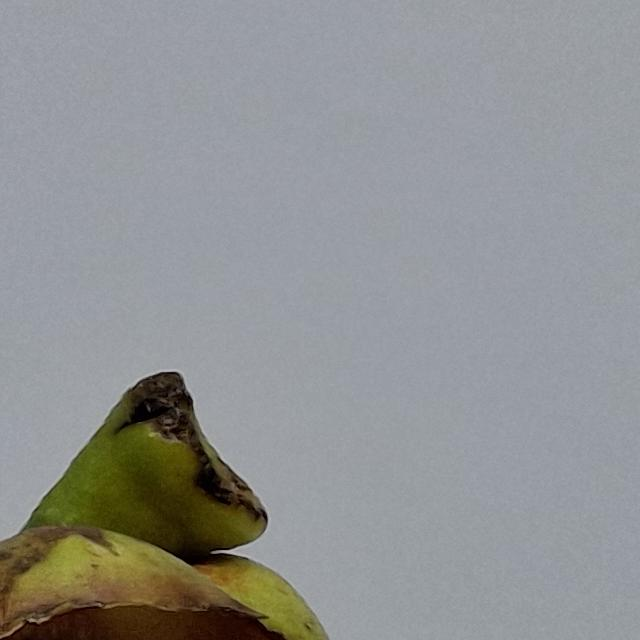mangosteen: (0, 315, 630, 640)
